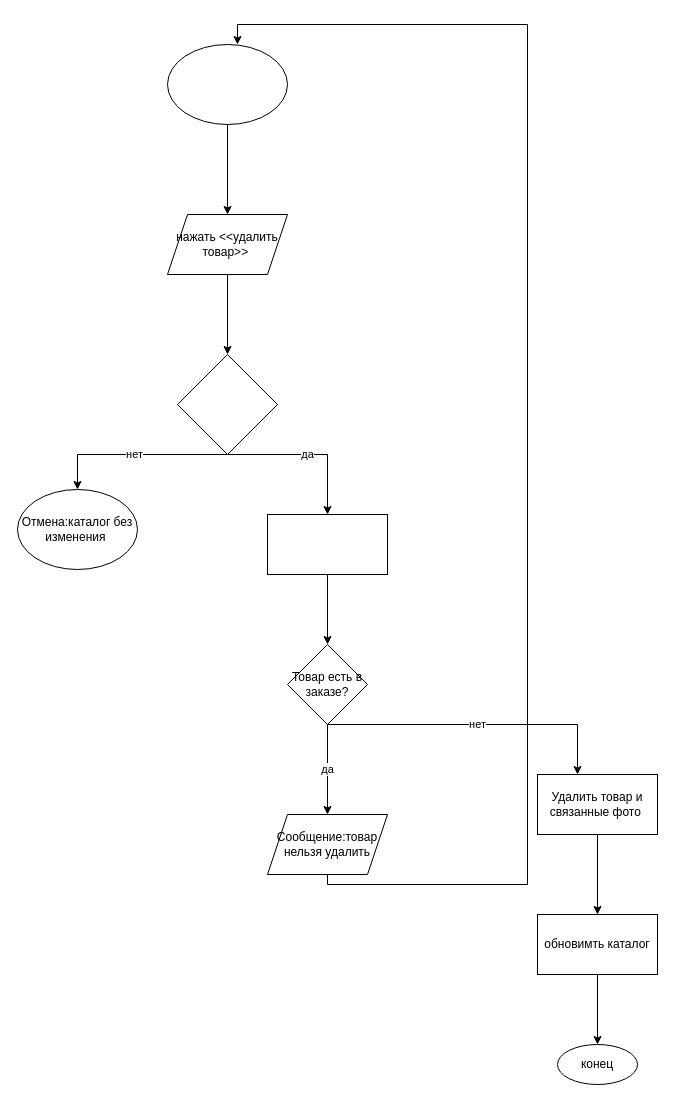
This 675x1102 diagram has some shape labels left out. Here are the shapes that lost their labels. From the top down, the centre of each, then its label:
At [227,84]: "выбран товар".
At [227,404]: "Удаление подтверждено?".
At [327,544]: "Проверить: товар есть в позциях заказа?".
